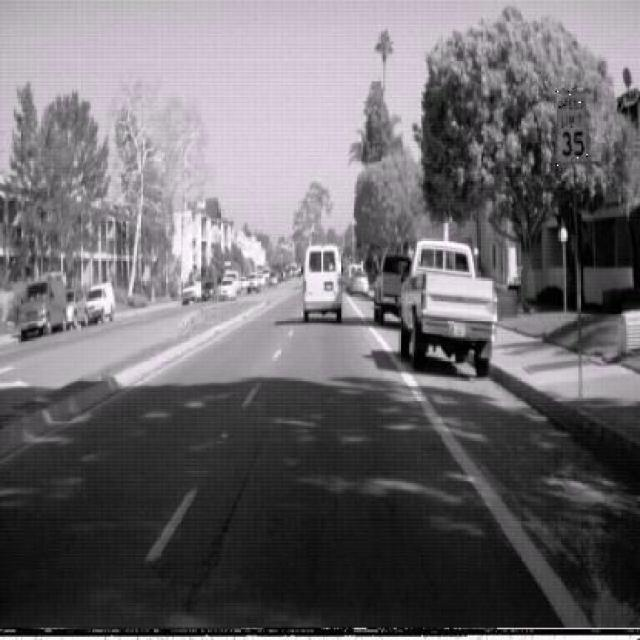speedLimit35: (557, 89, 591, 169)
